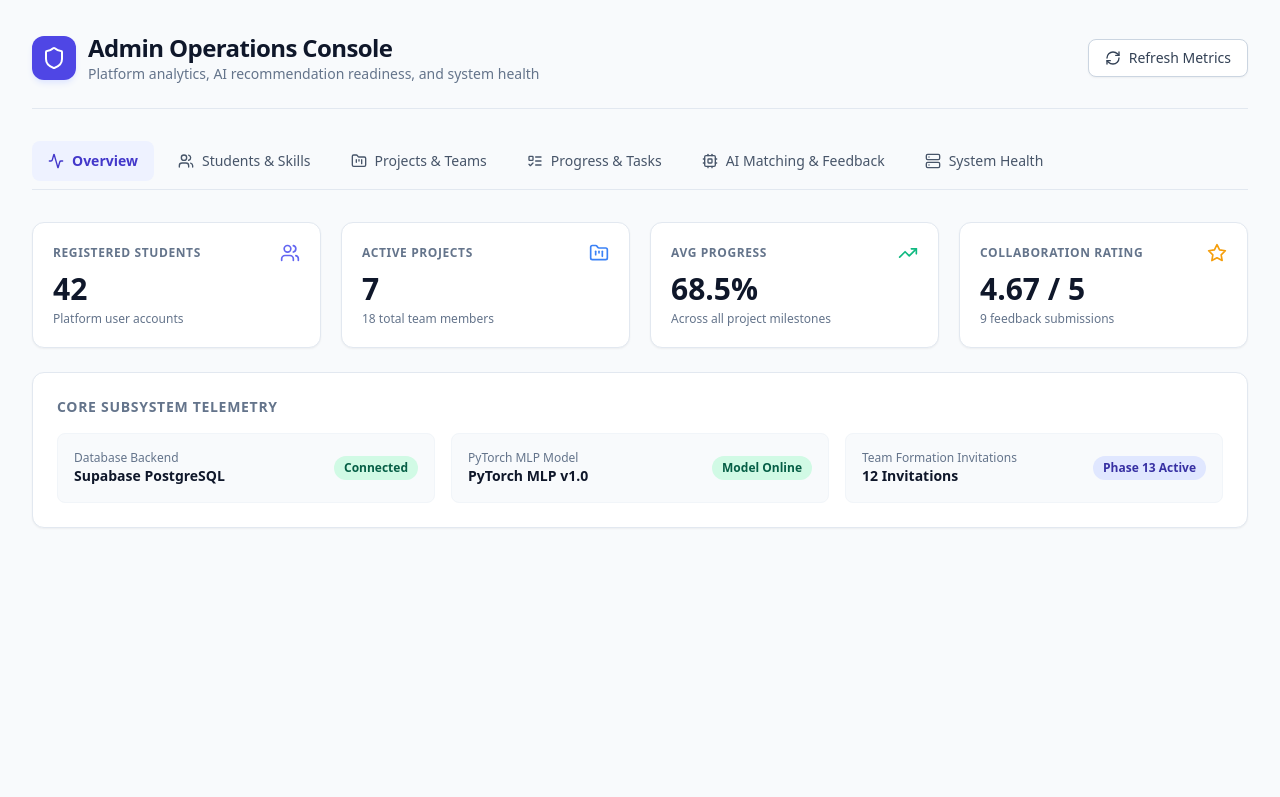
Scenario: Phase 15: Admin Dashboard Frontend Tests › Admin Dashboard Data Rendering › switches to AI Matching & Feedback tab and displays MLP parameters and notice
expect the text "Overview" is shown: met, box [72,151,138,171]
# Click on AI Matching & Feedback tab
What coordinates should you click on to do the following:
click the button "AI Matching & Feedback"
I would click on:
 (793, 161)
Its box is [686,141,901,181].
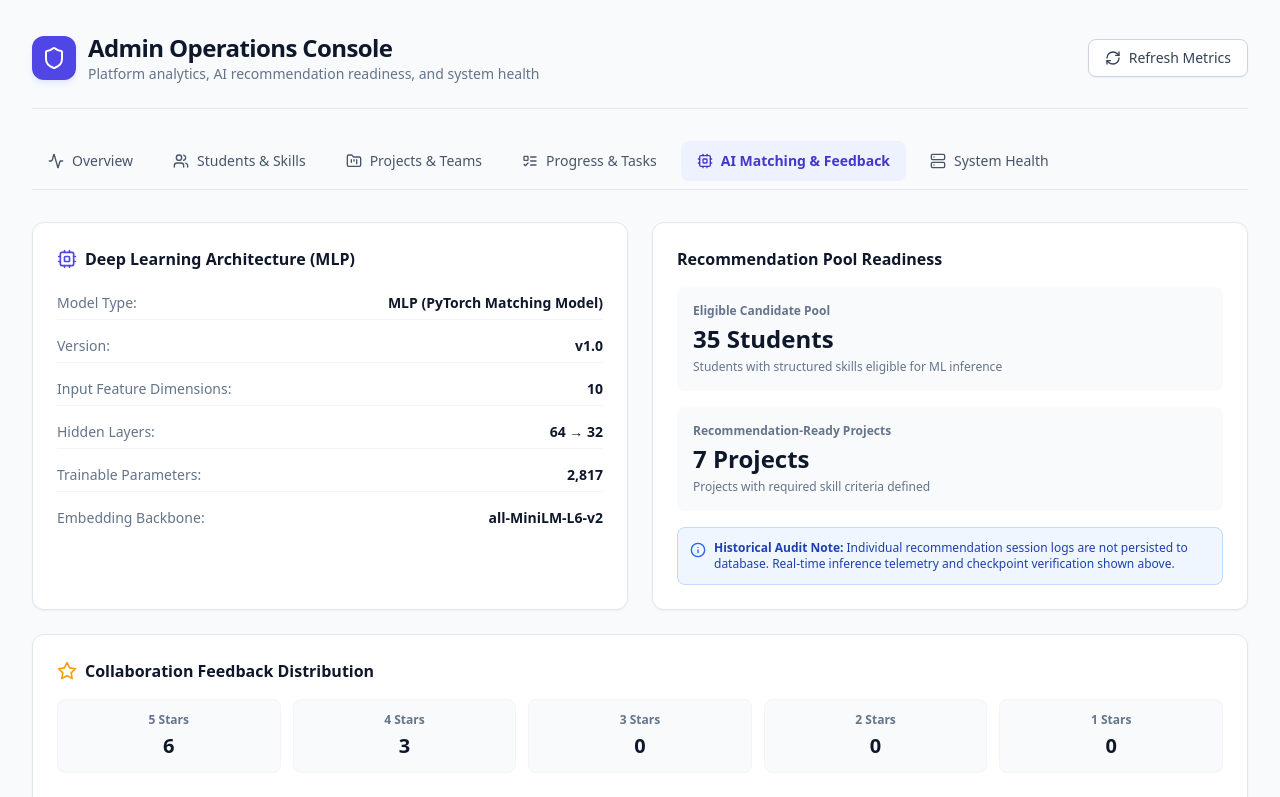
expect the text "Deep Learning Architecture (MLP)" is shown: met, box [85,247,355,271]
expect the text "2,817" is shown: met, box [567,465,603,485]
expect the text "64 → 32" is shown: met, box [550,422,603,442]
